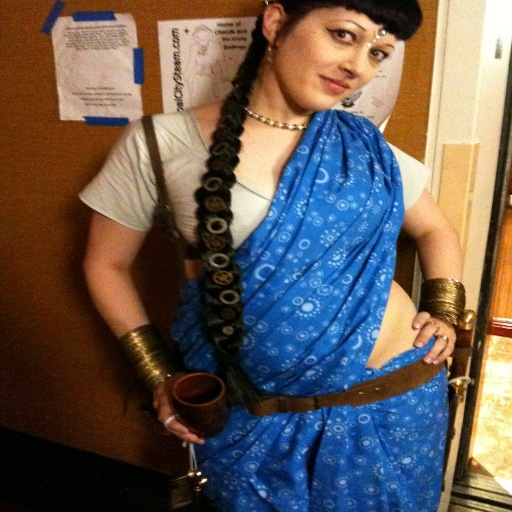hand: (150, 385, 206, 447), (409, 306, 464, 359)
